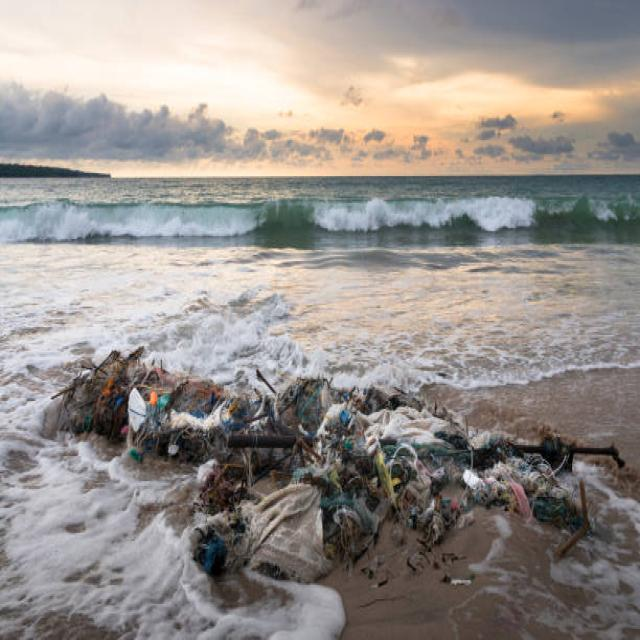trash: (74, 330, 590, 571)
